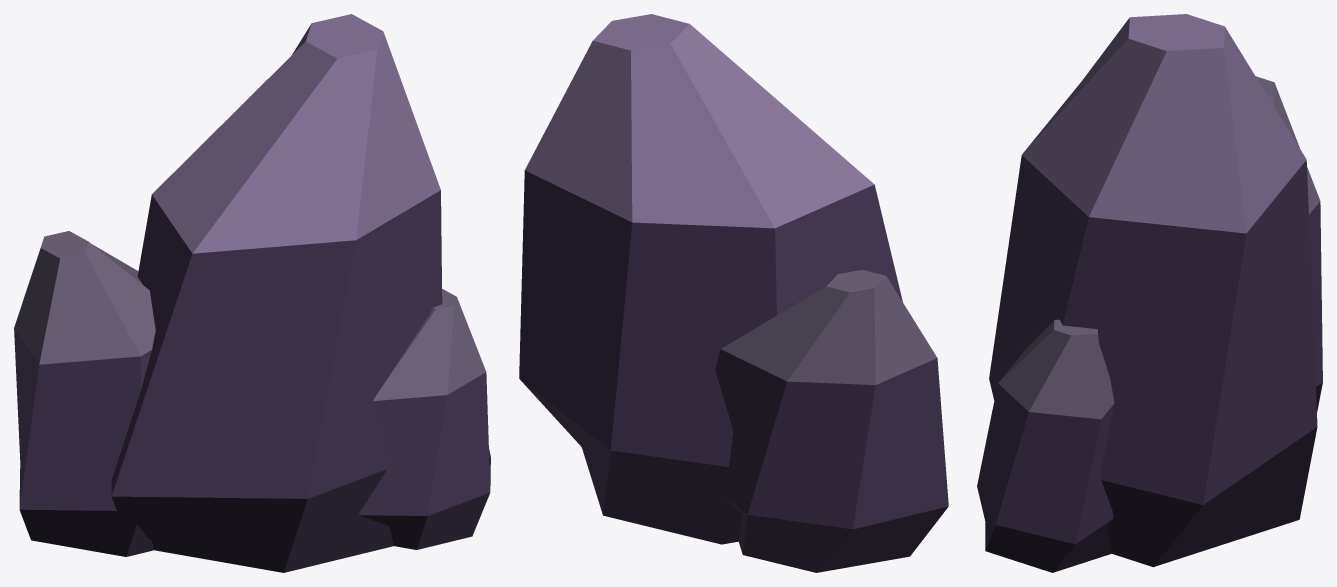
Rendered from amethyst-shard.glb.
3 renders of one model, left to right at view 1: azimuth 30°, elevation 25°; view 2: azimuth 150°, elevation 25°; view 3: azimuth 270°, elevation 25°, orthographic. The views are drawn at different scales.
Parts seen in each view (by area): view 1: amethyst-shard; view 2: amethyst-shard; view 3: amethyst-shard.
Part boxes in pixels (<box>): amethyst-shard: <box>14,14,490,572</box>; amethyst-shard: <box>519,14,948,572</box>; amethyst-shard: <box>977,14,1322,572</box>.
Bounding box in the file's own units: 0.7067 × 0.7 × 0.4424.
